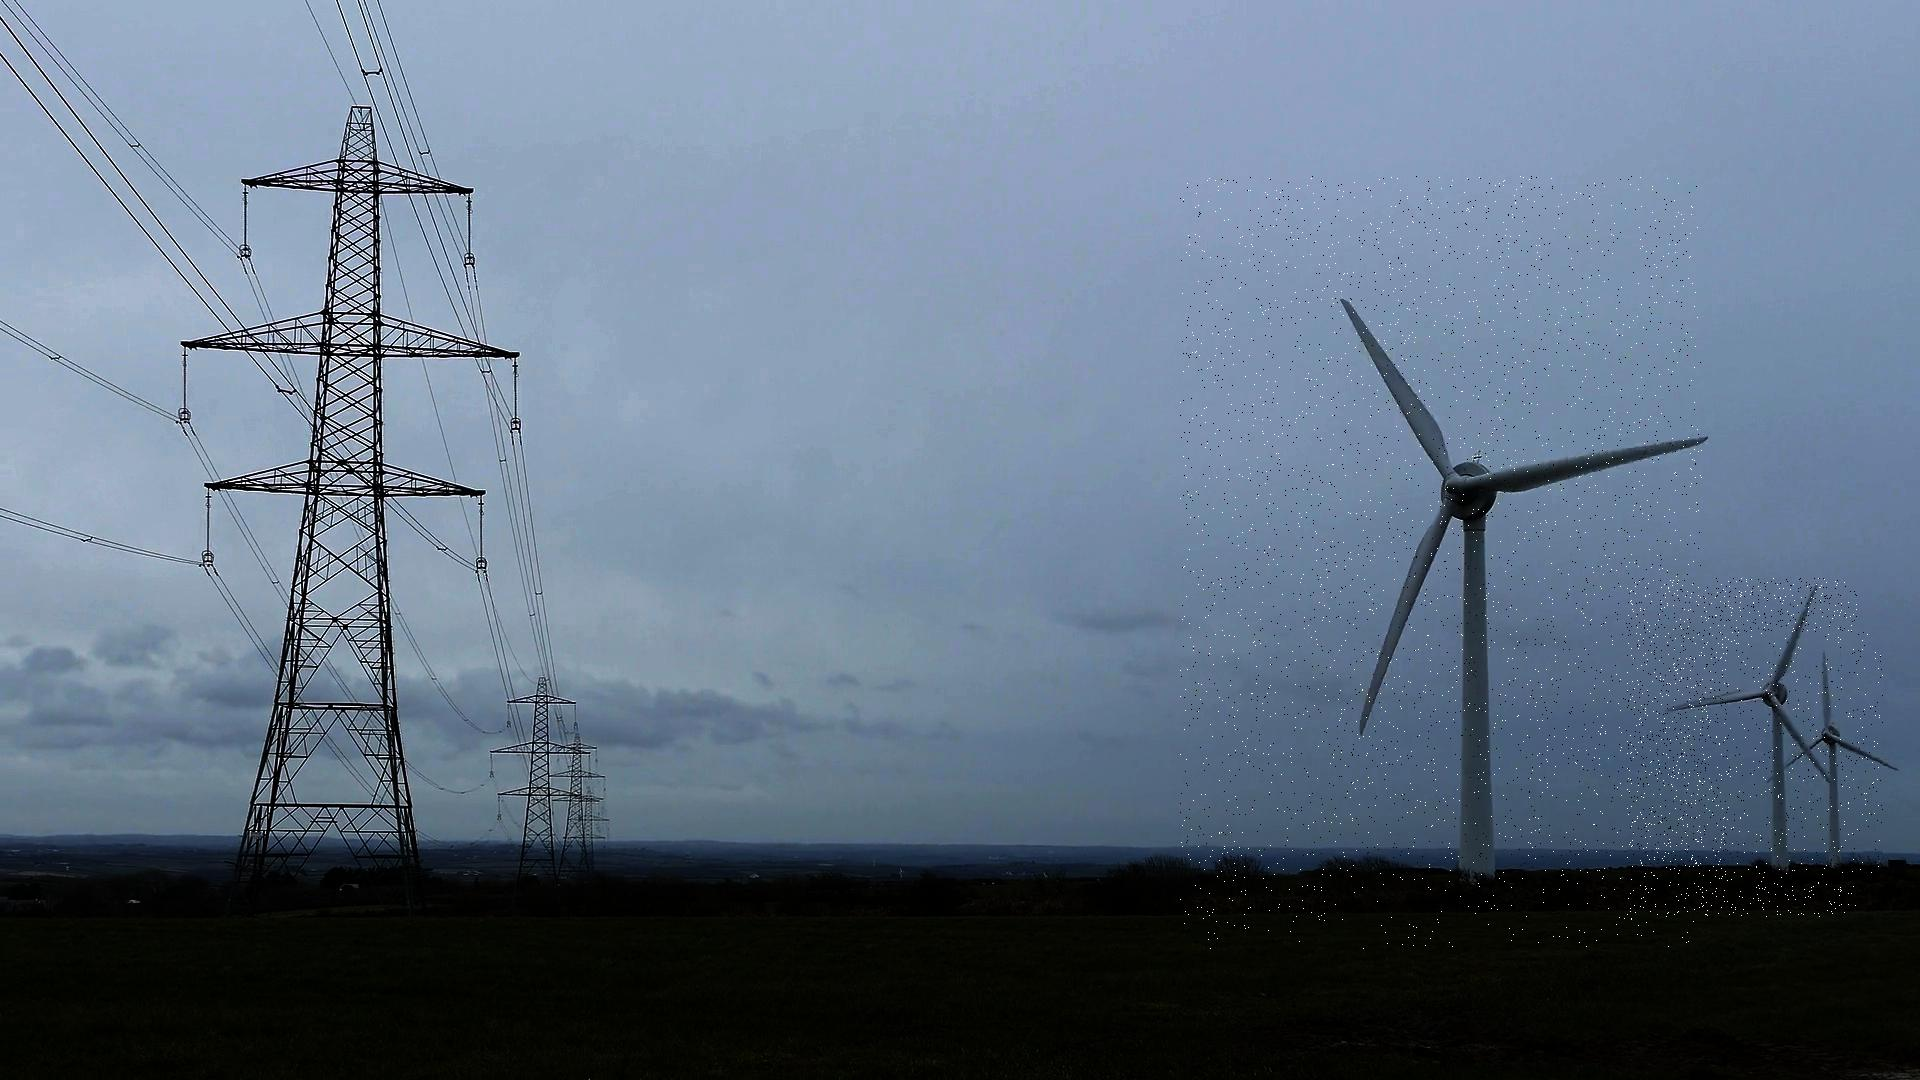cable tower: (171, 102, 526, 913), (488, 675, 593, 893), (549, 732, 605, 880), (572, 789, 609, 877)
turbine: (1180, 175, 1702, 949), (1627, 579, 1857, 918), (1727, 633, 1883, 887)
